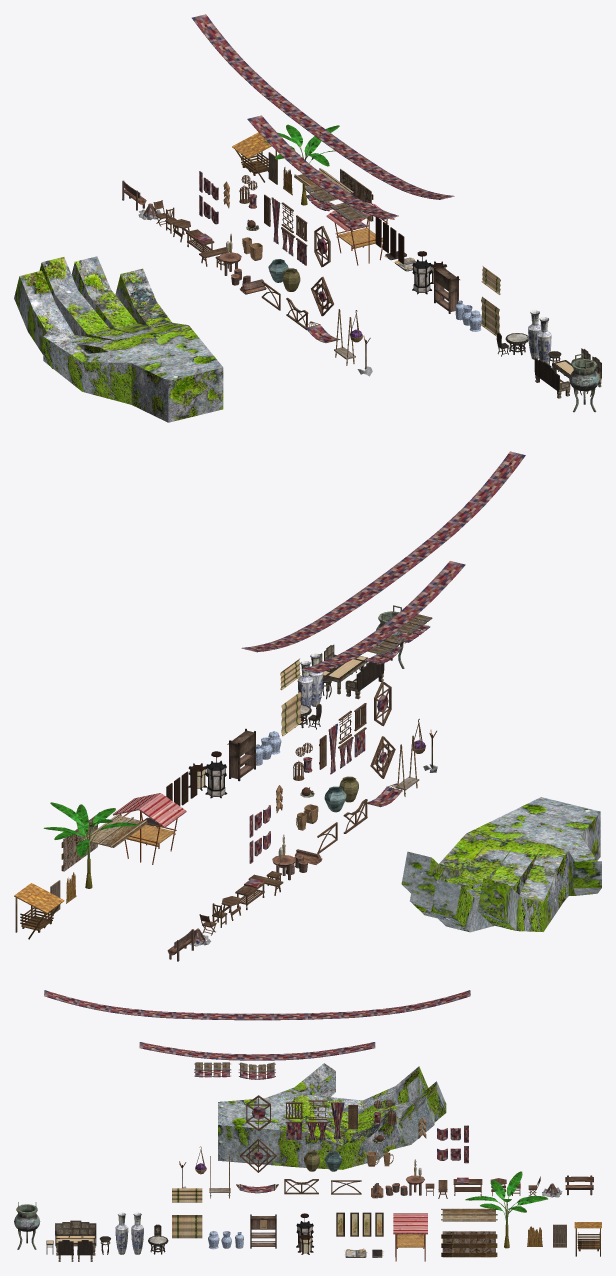
Rendered from TayBac.fbx.
3 renders of one model, top to bottom at view 1: azimuth 30°, elevation 25°; view 2: azimuth 150°, elevation 25°; view 3: azimuth 270°, elevation 25°, orthographic. The views are drawn at different scales.
Visible parts, largest first — view 1: BanTayVang, Choi, CayChuoi, Sphere, Plane.024, Plane.009, Plane.004, Plane.008, Plane.042, Plane.038, Plane.039, Plane.040 (+3 smaller); view 2: BanTayVang, Choi, CayChuoi, Cube.002, Cube.017, Plane.009, Plane.008, Plane.004, Plane.024, Cube.004, Plane.038, Plane.042 (+3 smaller); view 3: BanTayVang, Choi, CayChuoi, Cube.004, Cube.005, Plane.010, Sphere, Cube.027, Cube.002, Plane.009, Plane.024, Plane.004 (+10 smaller).
Part boxes in pixels (x1,y1,x2,y2): BanTayVang: [14, 256, 223, 422]; Choi: [326, 202, 394, 265]; CayChuoi: [264, 124, 339, 205]; Sphere: [569, 359, 599, 391]; Plane.024: [286, 110, 359, 157]; Plane.009: [247, 115, 398, 219]; Plane.004: [286, 156, 359, 202]; Plane.008: [267, 137, 378, 212]; Plane.042: [192, 14, 454, 199]; Plane.038: [267, 95, 378, 169]; Plane.039: [248, 78, 397, 181]; Plane.040: [229, 60, 416, 190]; BanTayVang: [401, 797, 601, 932]; Choi: [113, 793, 186, 864]; CayChuoi: [43, 802, 138, 888]; Cube.002: [83, 815, 147, 847]; Cube.017: [14, 883, 64, 913]; Plane.009: [301, 561, 465, 673]; Plane.008: [323, 584, 444, 665]; Plane.004: [344, 605, 423, 655]; Plane.024: [344, 555, 423, 606]; Cube.004: [63, 815, 97, 871]; Plane.038: [323, 538, 444, 620]; Plane.042: [241, 451, 525, 652]; BanTayVang: [218, 1063, 446, 1169]; Choi: [393, 1213, 427, 1261]; CayChuoi: [465, 1171, 547, 1248]; Cube.004: [442, 1231, 495, 1257]; Cube.005: [441, 1234, 497, 1256]; Plane.010: [172, 1215, 202, 1238]; Sphere: [14, 1204, 40, 1231]; Cube.027: [55, 1220, 96, 1235]; Cube.002: [442, 1210, 495, 1221]; Plane.009: [139, 1042, 375, 1054]; Plane.024: [206, 1013, 307, 1020]; Plane.004: [206, 1052, 307, 1060].
Size of the model in its own units: 3037 by 1840 by 4477.
Materials: 31 (31 with a texture image).
